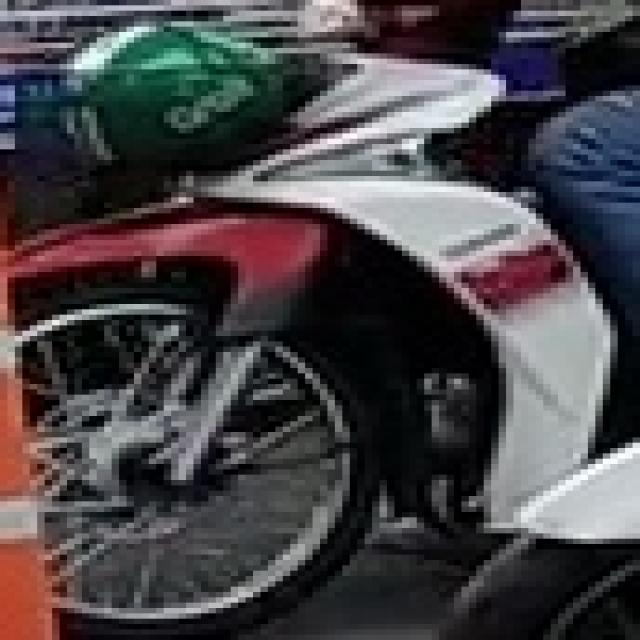door: (0, 165, 60, 635)
helmet: (52, 16, 290, 165)
tyre: (8, 277, 380, 635)
